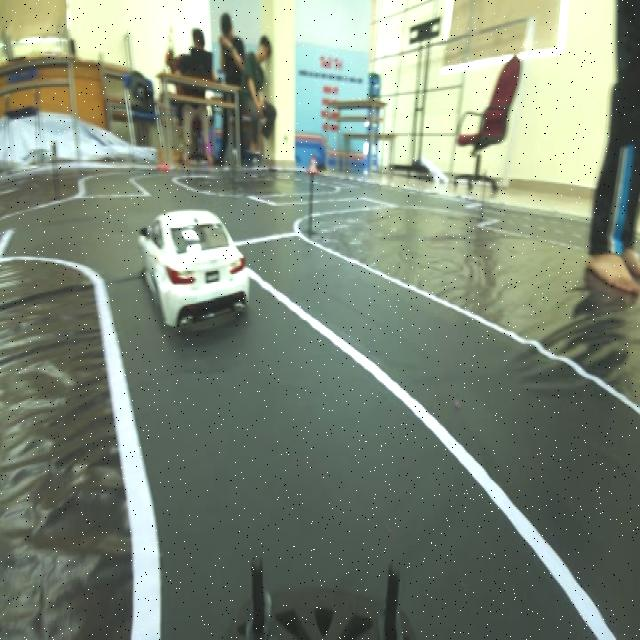car: (134, 210, 257, 324)
